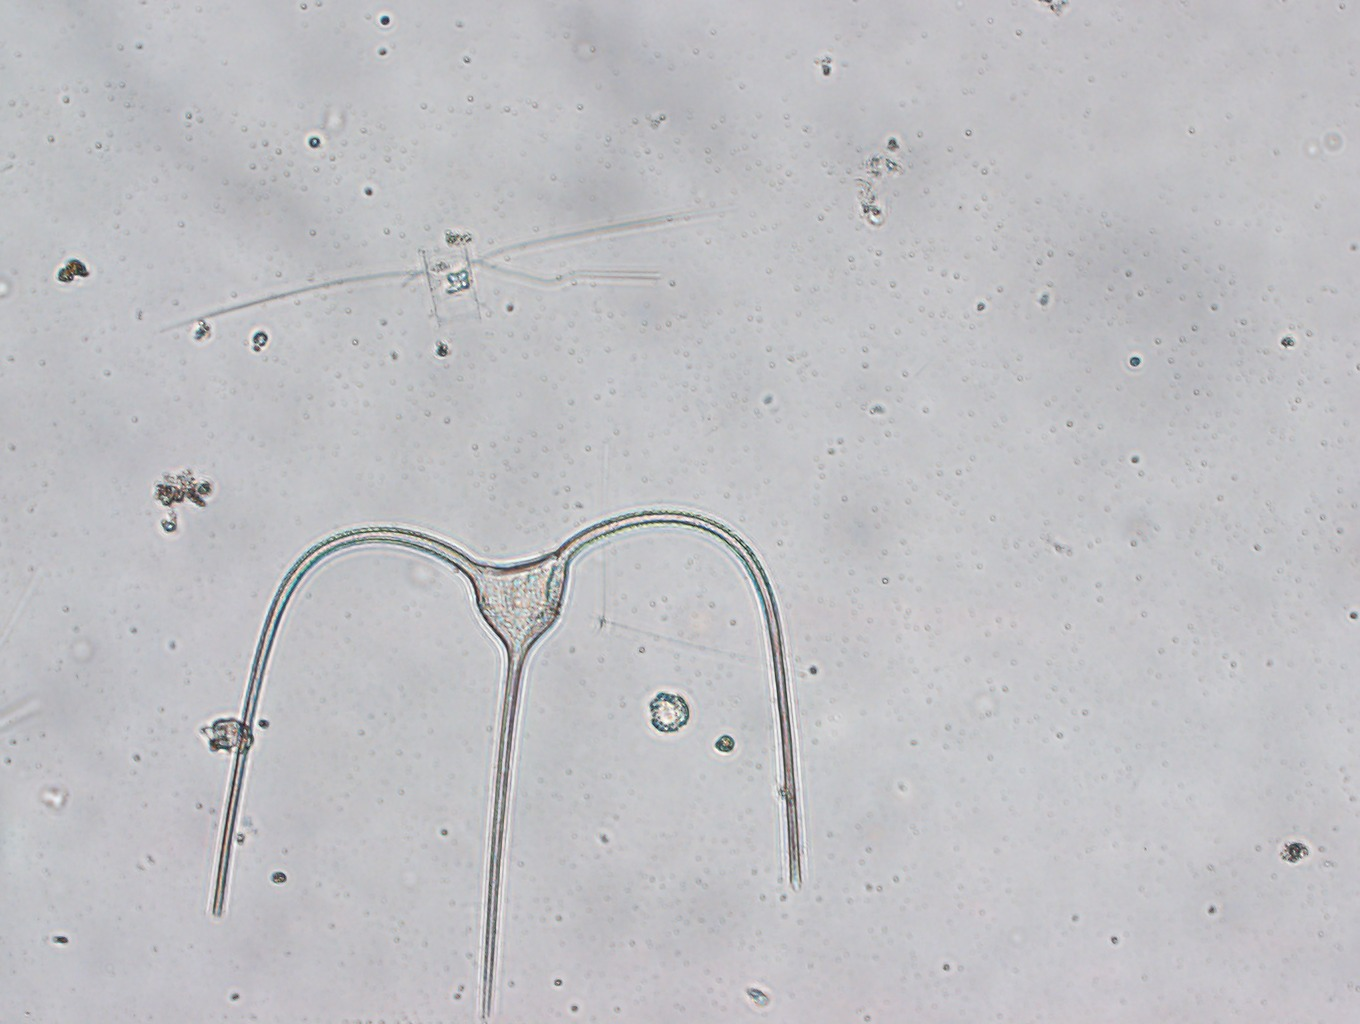ceratium trichoceros: (213, 510, 802, 1024)
chaetoceros: (153, 209, 710, 336)
